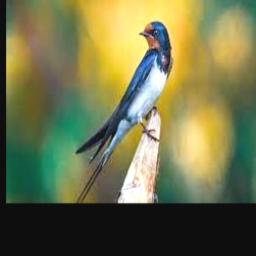Swallow: (75, 21, 171, 203)
